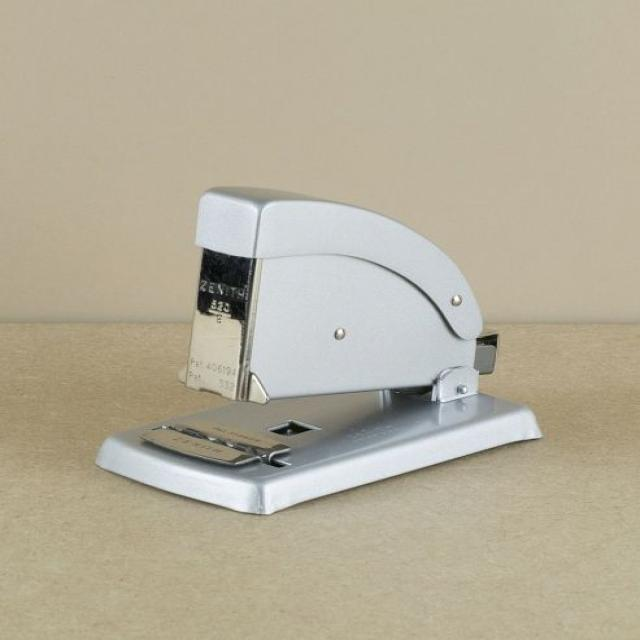Stapler: (94, 168, 548, 540)
